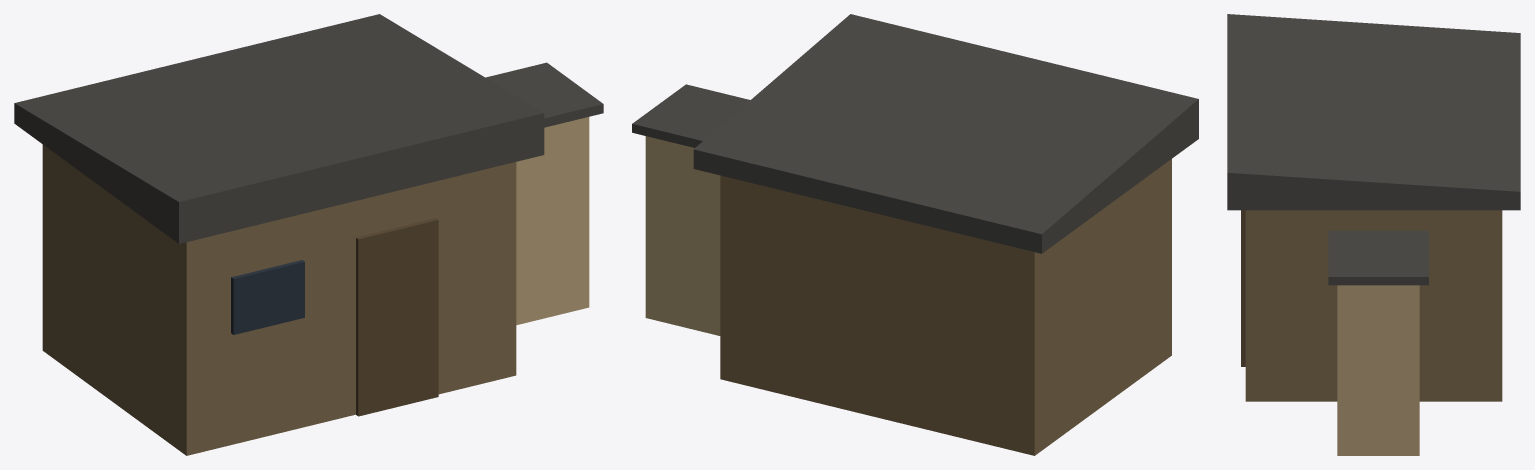
The model's file is con_hut.glb.
The picture shows the model from 3 angles, left to right: view 1: azimuth 30°, elevation 25°; view 2: azimuth 150°, elevation 25°; view 3: azimuth 270°, elevation 25°; orthographic projection. The views are drawn at different scales.
Parts seen in each view (by area): view 1: con_hut; view 2: con_hut; view 3: con_hut.
Boxes of the visible parts, x1=… form: con_hut: x1=14, y1=14, x2=603, y2=455; con_hut: x1=632, y1=14, x2=1198, y2=455; con_hut: x1=1227, y1=14, x2=1520, y2=455.
Bounding box in the file's own units: 5.4 × 2.85 × 3.2.
